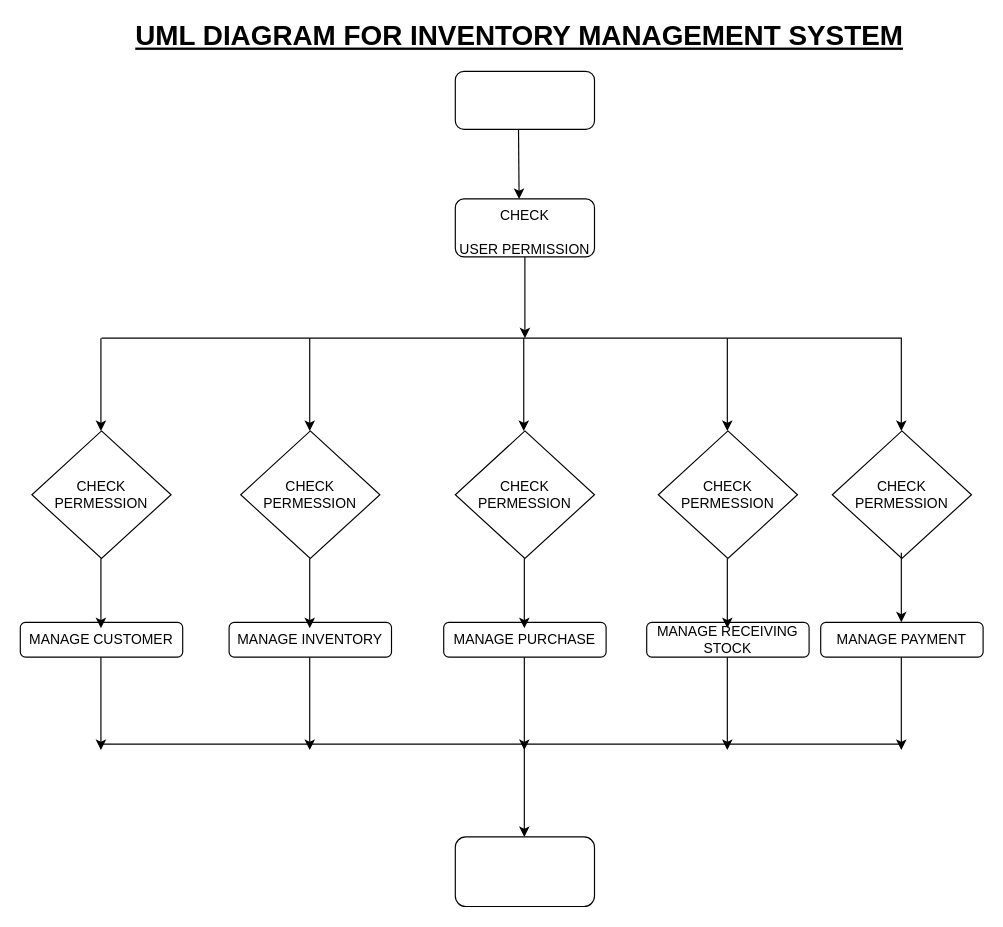
The diagram is 1003 pixels wide and 927 high, and some of its shapes have lost their labels. Each missing label, with the box of its shape:
LOGIN: (454, 70, 594, 129)
LOGOUT FROM THE SYSTEM: (454, 836, 594, 907)
